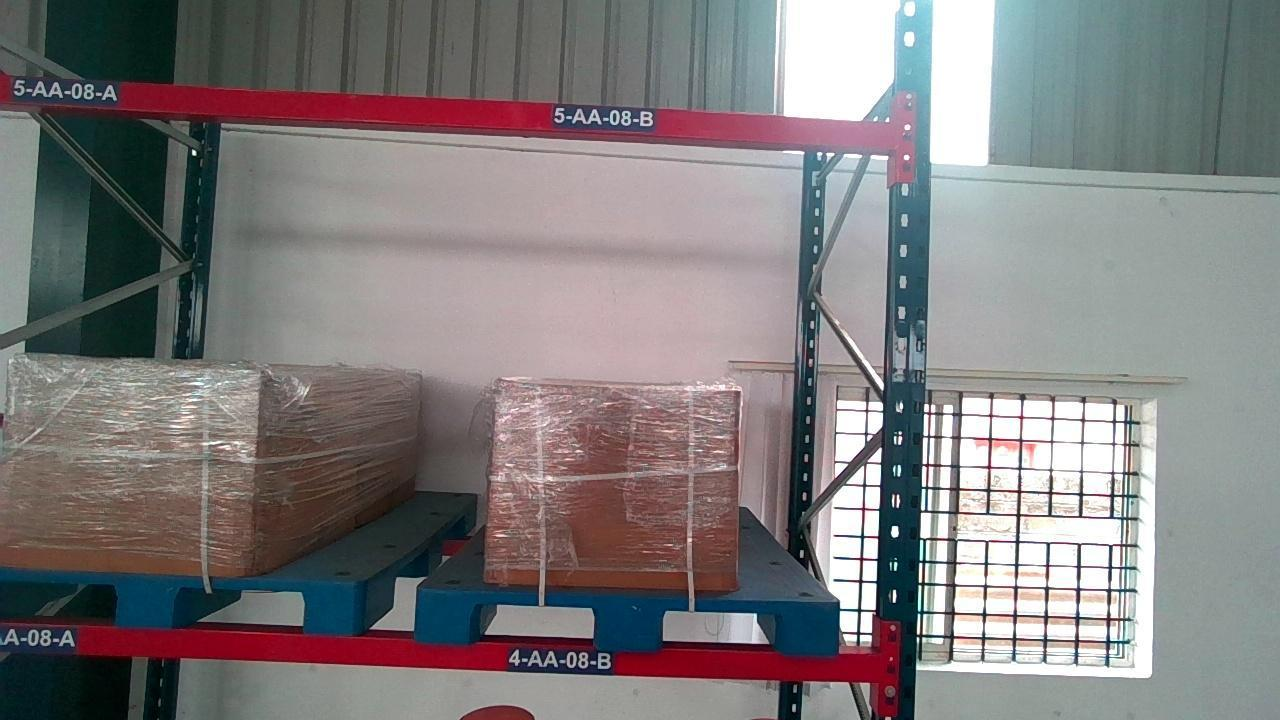h_rack: (2, 73, 893, 151), (0, 623, 892, 684)
small_pallet: (415, 591, 843, 649), (0, 569, 359, 634)
